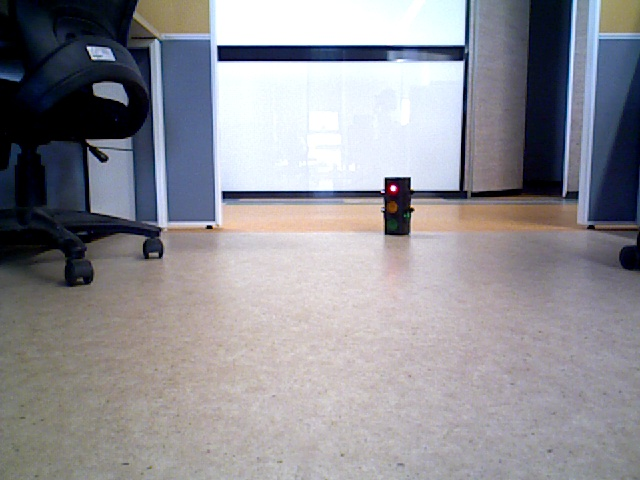red: (386, 180, 409, 234)
